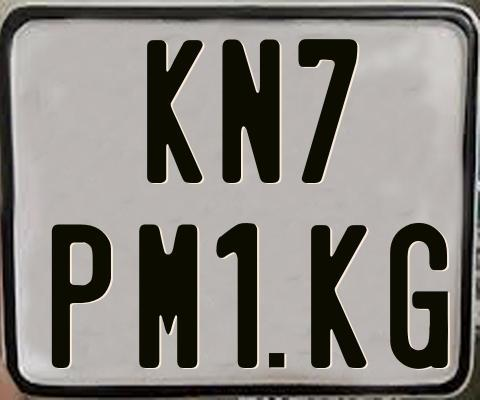1: (215, 220, 257, 371)
7: (296, 36, 357, 180)
G: (390, 221, 448, 373)
K: (147, 39, 206, 188), (308, 225, 368, 369)
M: (138, 221, 197, 371)
N: (222, 36, 285, 181)
P: (51, 221, 116, 369)
